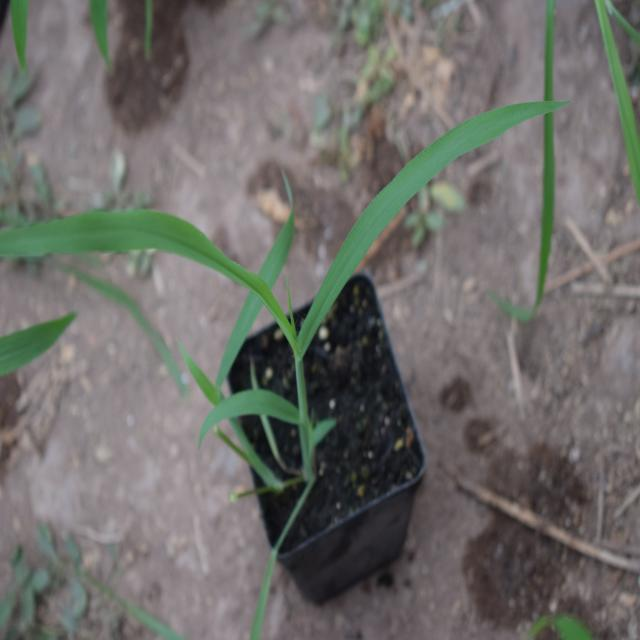crabgrass: (49, 126, 471, 462)
